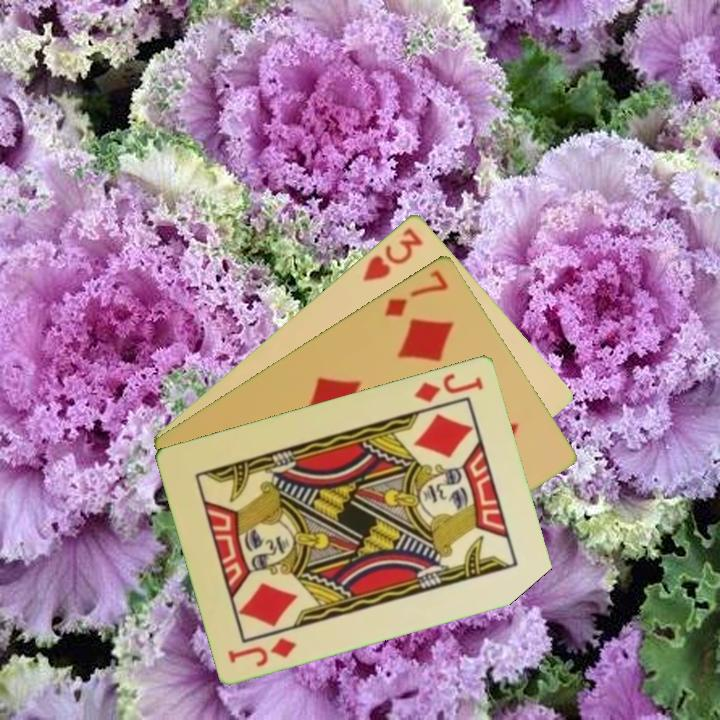3h: (359, 223, 426, 284)
7d: (381, 265, 452, 319)
Jd: (411, 369, 487, 405), (224, 633, 300, 669)
